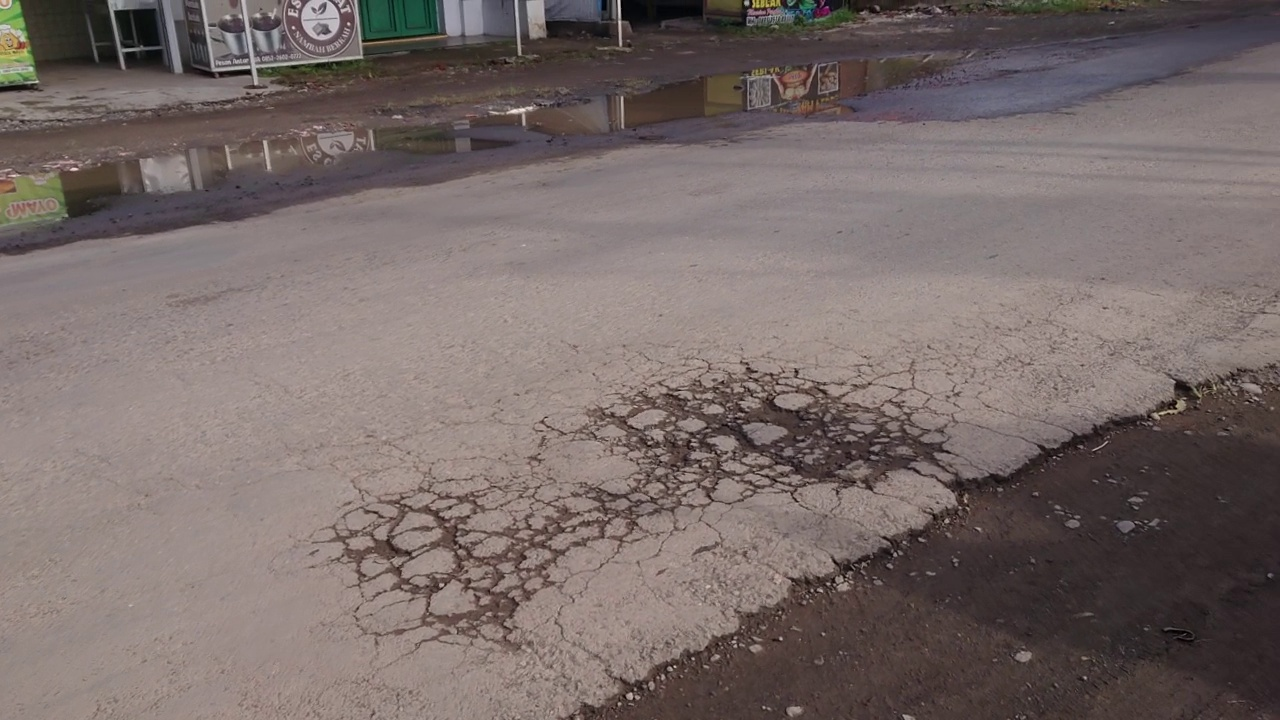Retak: (398, 353, 926, 656), (949, 271, 1117, 433)
